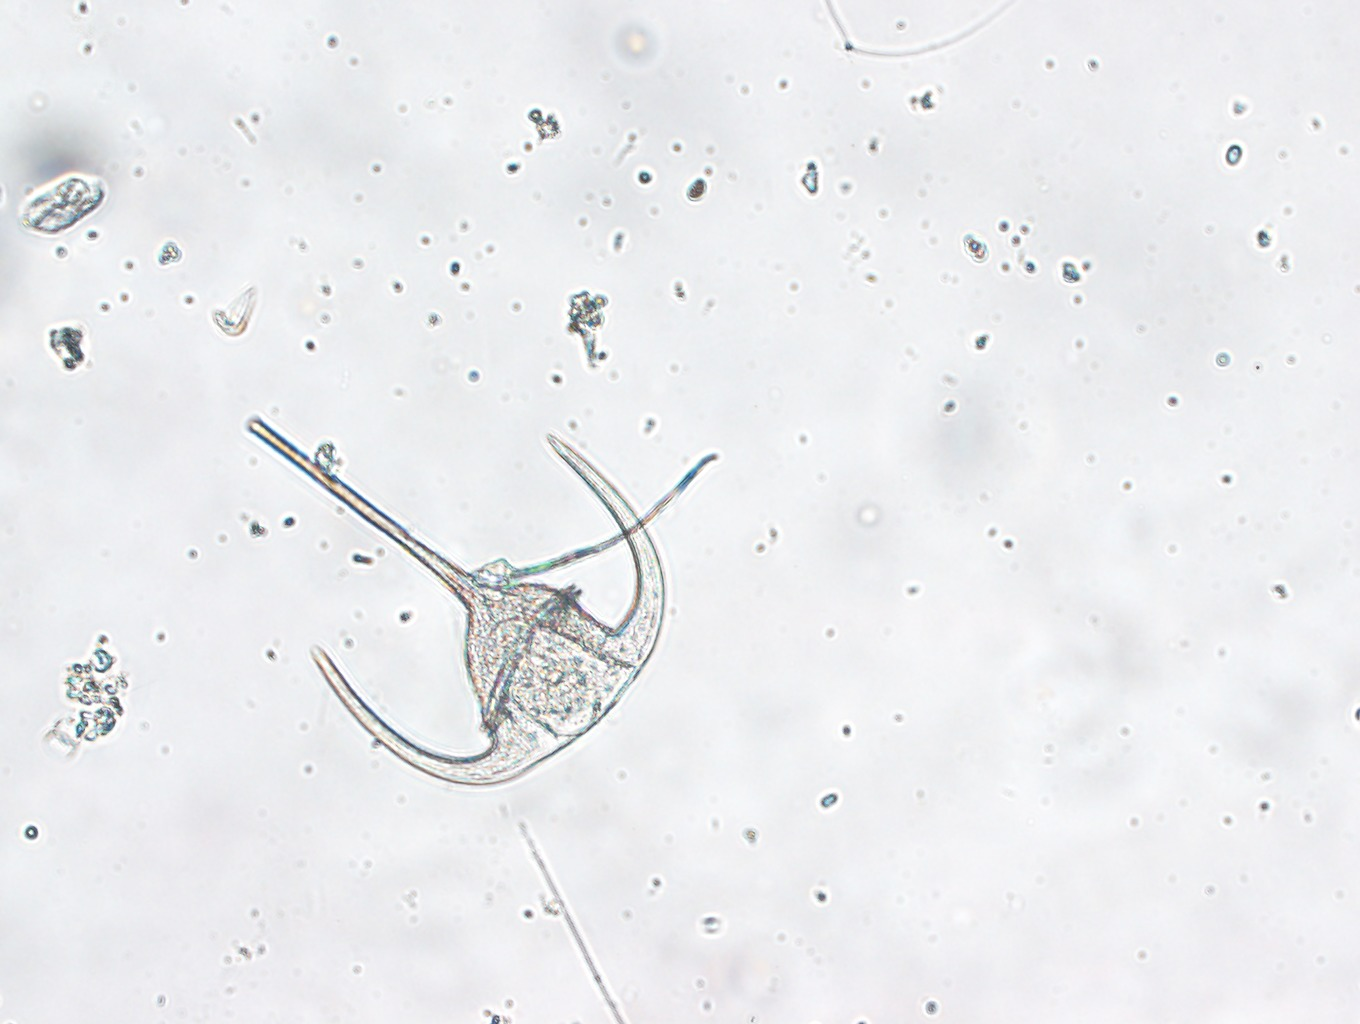ceratium tripos: (244, 413, 668, 786)
